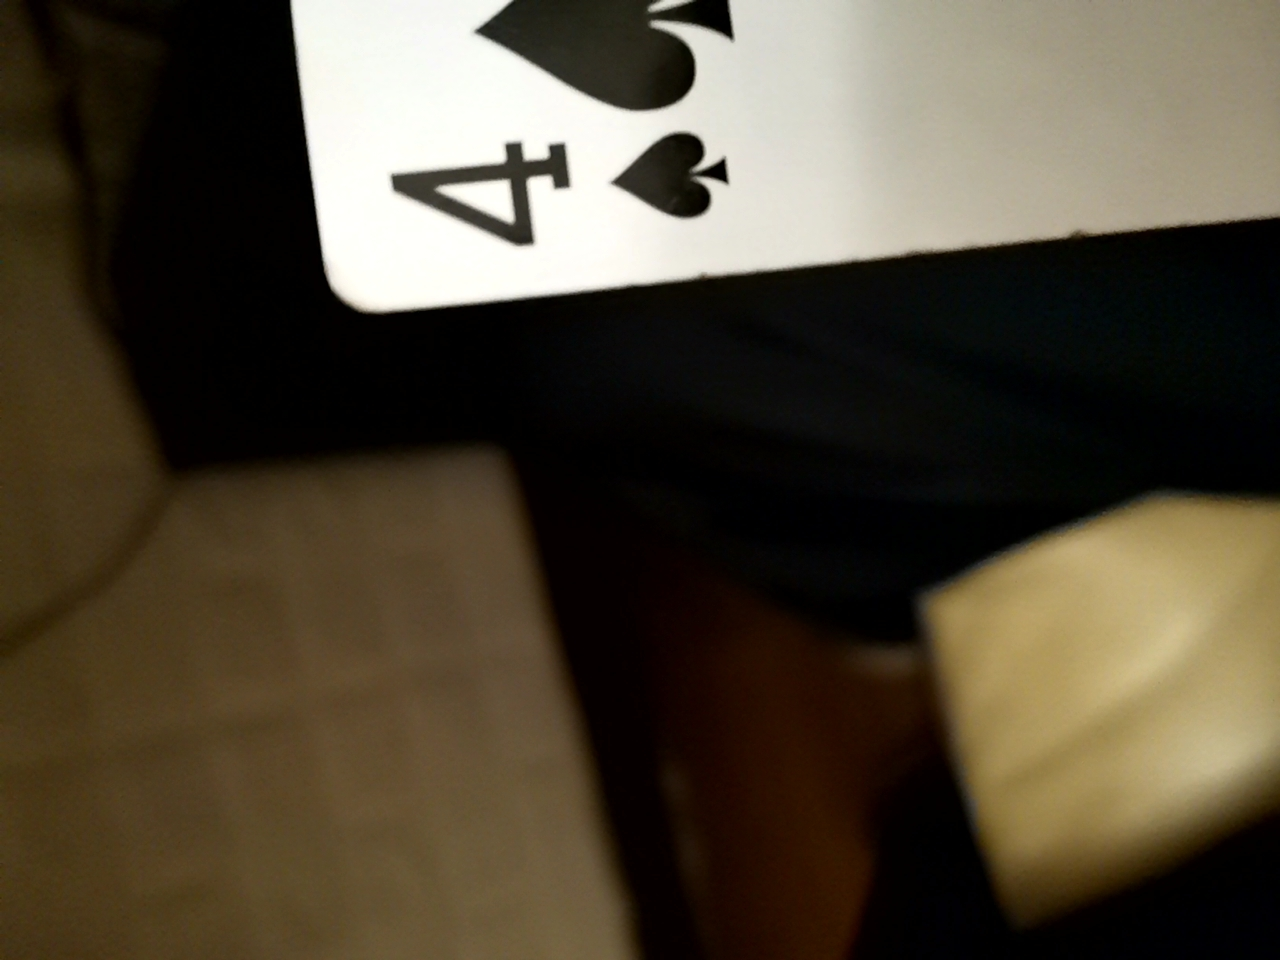ht 4: (180, 0, 1029, 326)
